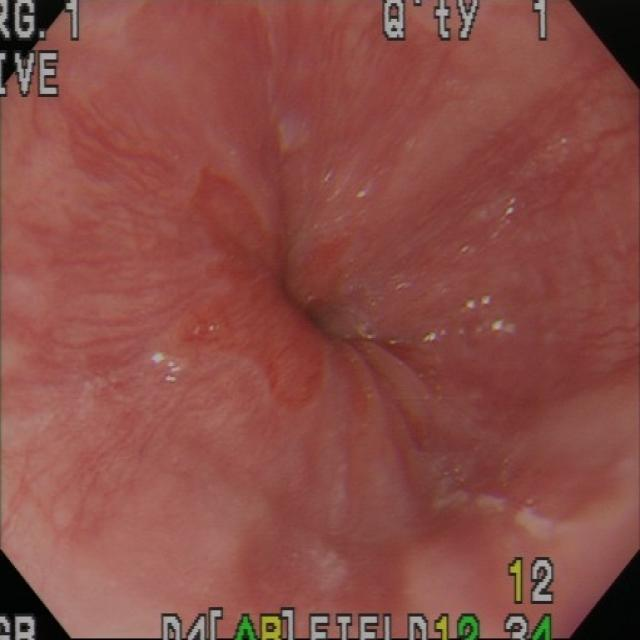I: (173, 137, 476, 482)
J: (432, 486, 554, 546)
S: (160, 608, 483, 640), (383, 3, 558, 45), (3, 3, 83, 45), (3, 50, 63, 101), (507, 558, 556, 608), (506, 614, 556, 640), (2, 614, 39, 640)
T: (357, 322, 381, 345)
U: (153, 350, 183, 387), (357, 173, 378, 201), (468, 296, 492, 313), (426, 328, 450, 345), (504, 195, 521, 219), (491, 319, 516, 334)
